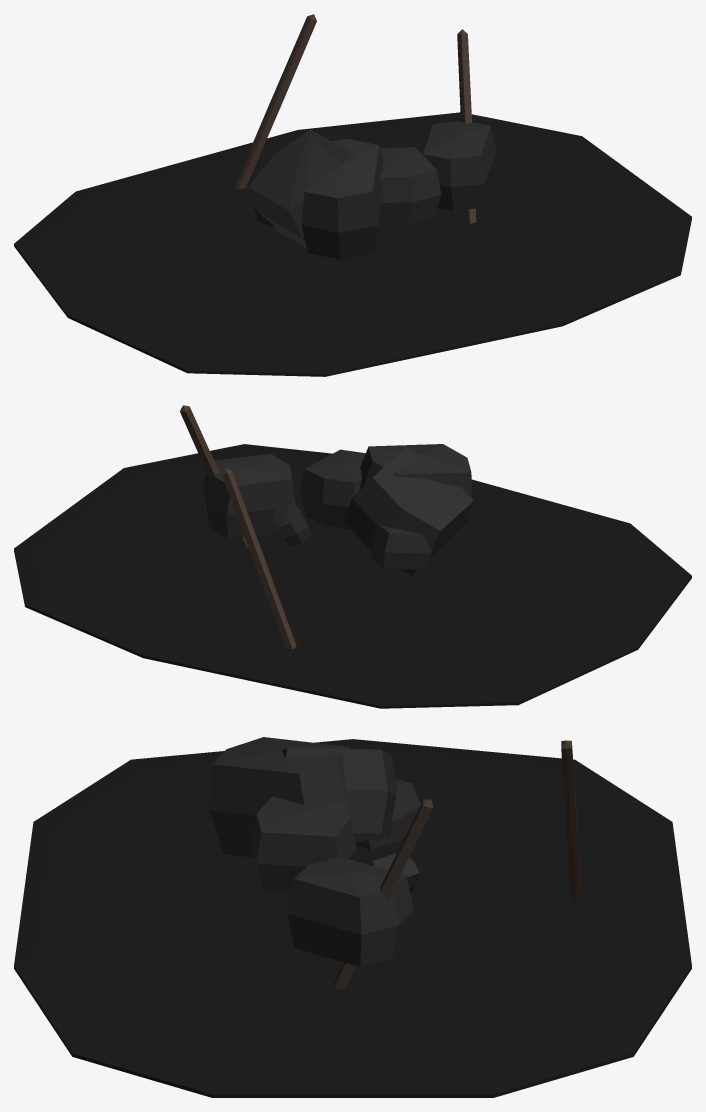
Rendered from r-scorch.glb.
The picture shows the model from 3 angles, top to bottom: view 1: azimuth 30°, elevation 25°; view 2: azimuth 150°, elevation 25°; view 3: azimuth 270°, elevation 25°; orthographic projection. The views are drawn at different scales.
Visible parts, largest first — view 1: p; view 2: p; view 3: p.
Boxes of the visible parts, box(x1,y1,x2,y2) form: p: box(14, 14, 691, 376); p: box(14, 405, 691, 708); p: box(14, 737, 691, 1097).
Size of the model in its own units: 2.93 by 0.8231 by 2.36.
